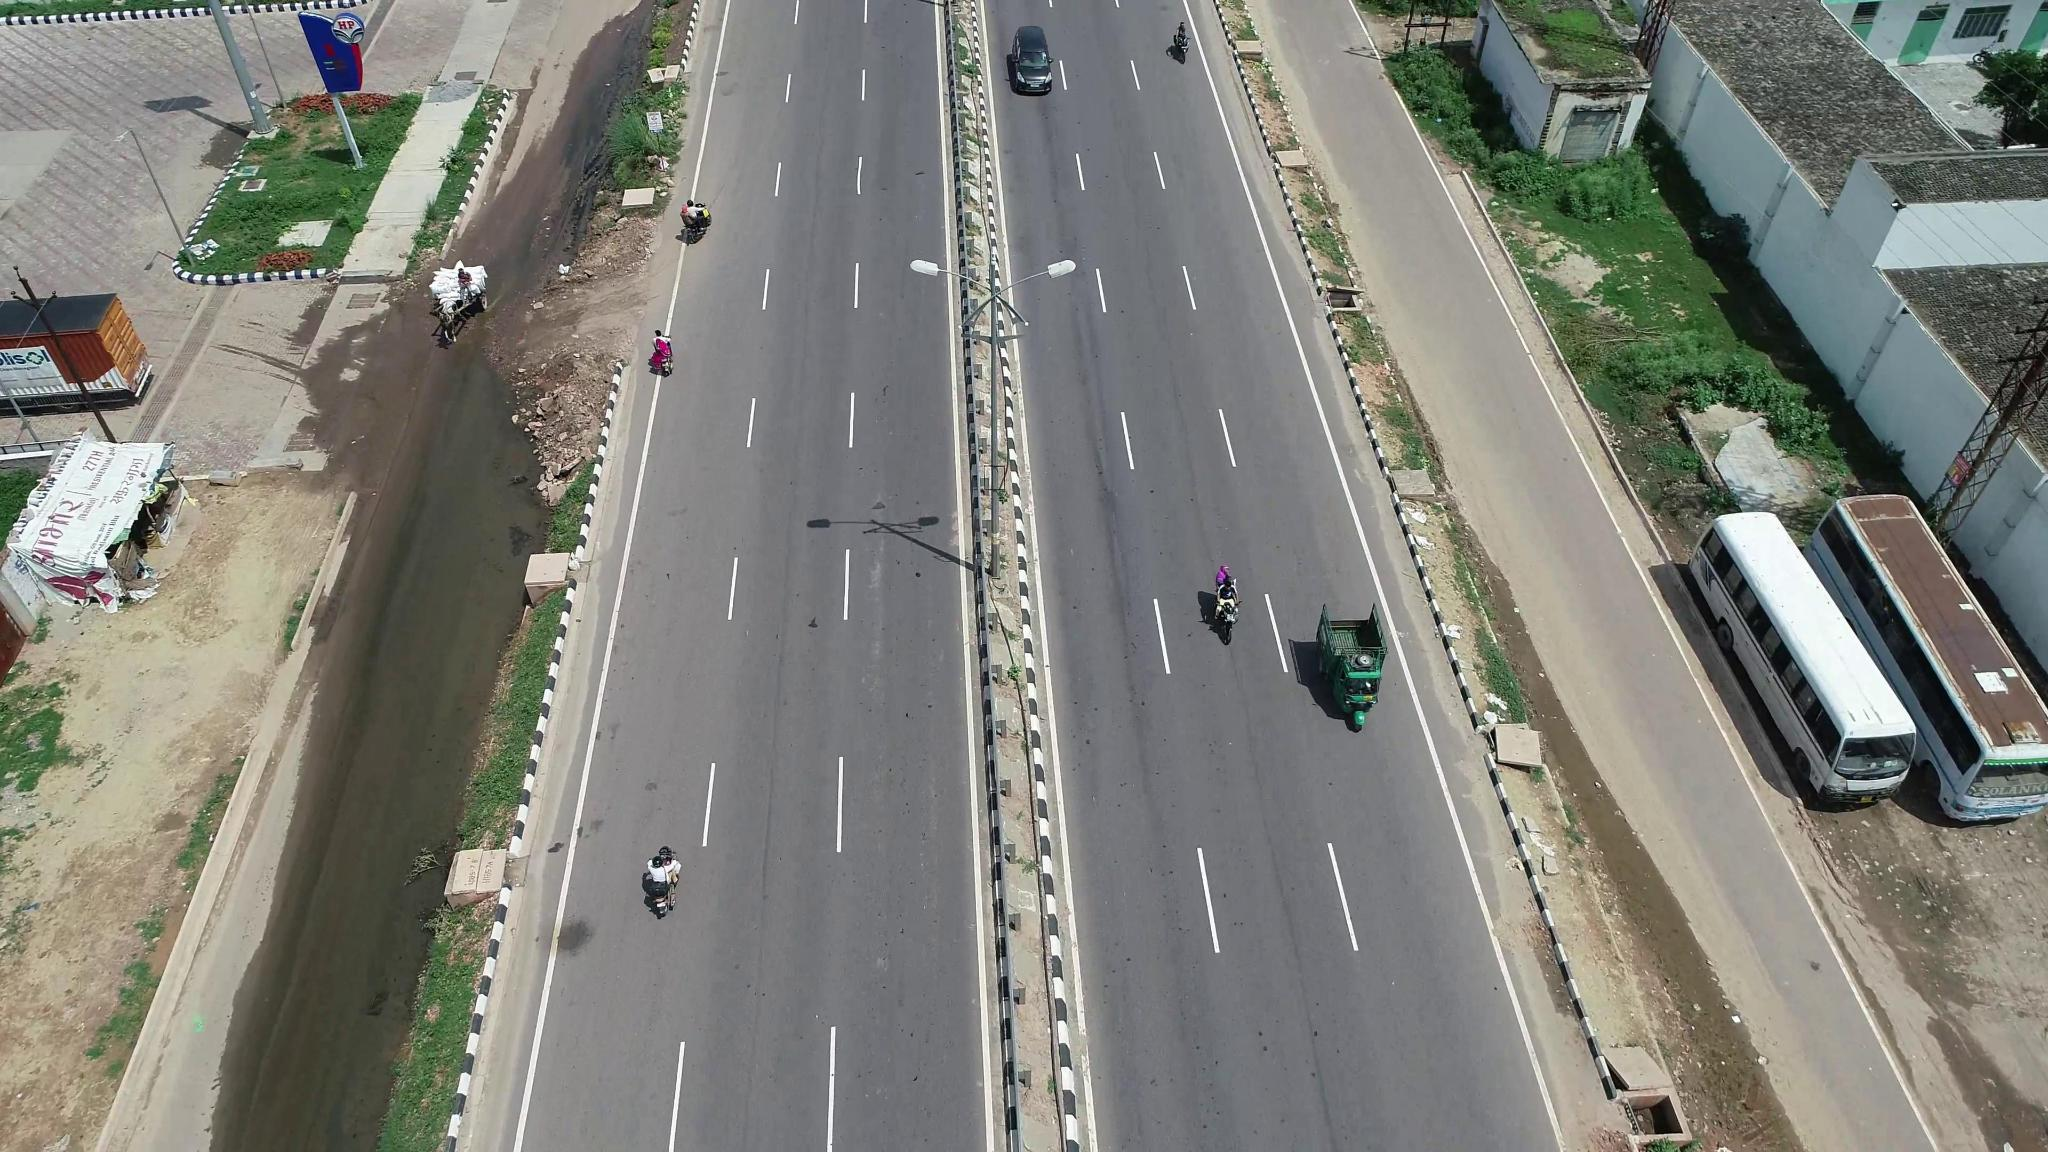Waterlogging: (232, 616, 474, 1096), (383, 405, 515, 589)
